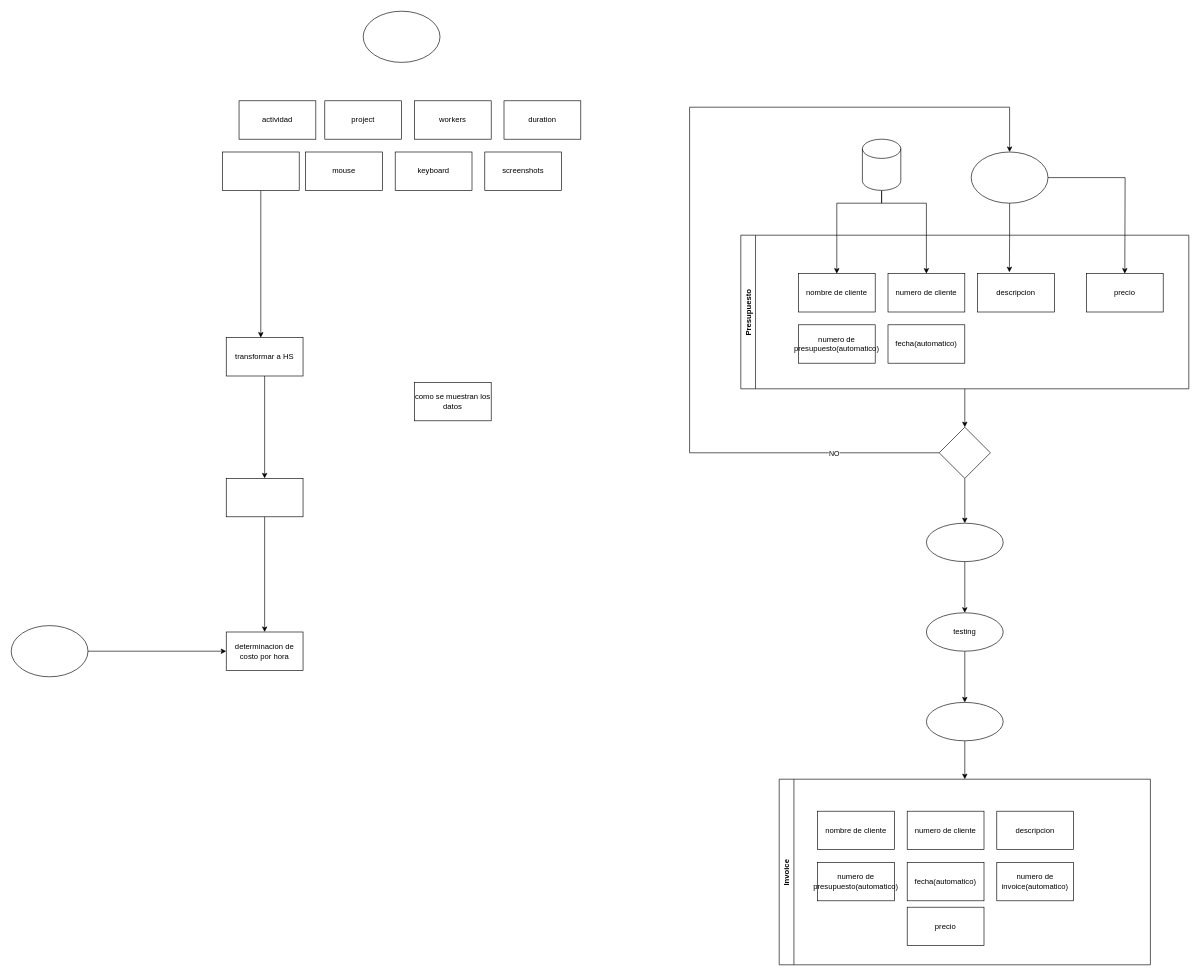
Image size: 1200x976. Some labels were removed from this diagram. Here are the shapes that lost their labels. From the top down, the centre of each, then its label:
At (401,36): "top tracker".
At (260,170): "duration seconds".
At (881,164): "clientes".
At (1009,177): "analsis website".
At (964,452): "Se acepta presupuesto?".
At (264,497): "cantidad de horas en un proyecto".
At (964,542): "desarrollo".
At (49,651): "ingreso por cliente/proyecto".
At (964,721): "entrega".
